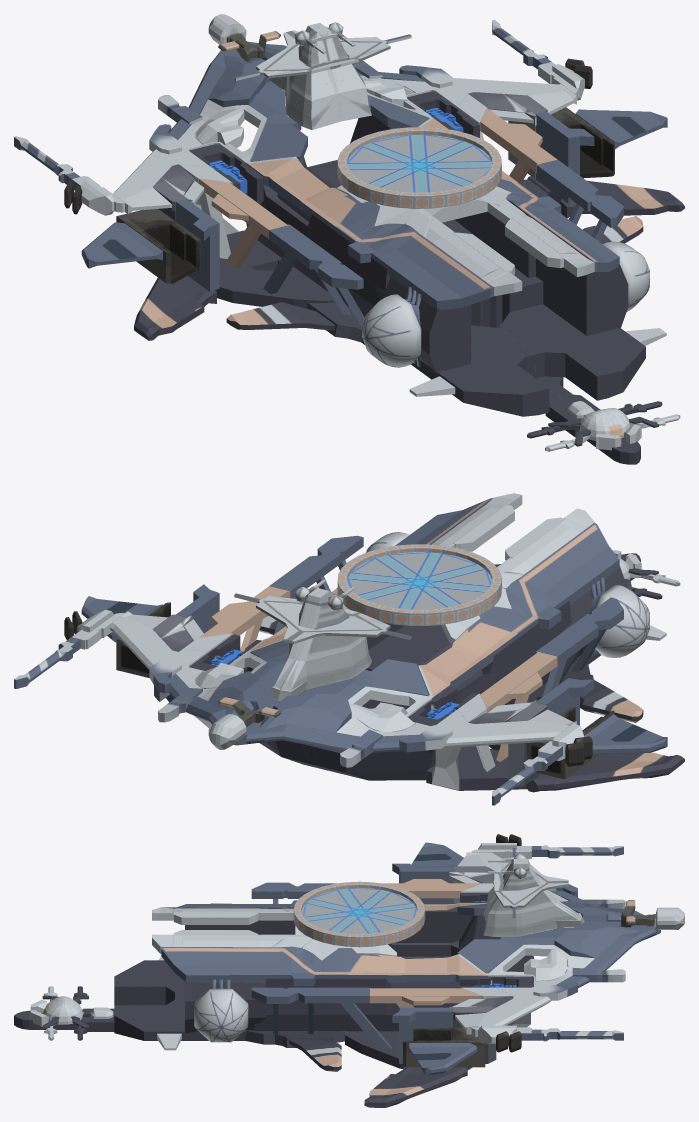
Rendered from Exploration Capital.fbx.
3 renders of one model, top to bottom at view 1: azimuth 30°, elevation 25°; view 2: azimuth 150°, elevation 25°; view 3: azimuth 270°, elevation 25°, orthographic. The views are drawn at different scales.
Visible parts, largest first — view 1: ESY, Circle; view 2: ESY, Circle; view 3: ESY, Circle.
Boxes of the visible parts, bbox=[...] form: ESY: bbox=[14, 14, 684, 464]; Circle: bbox=[337, 127, 501, 208]; ESY: bbox=[14, 493, 684, 805]; Circle: bbox=[337, 544, 501, 625]; ESY: bbox=[14, 834, 684, 1107]; Circle: bbox=[293, 881, 425, 947].
Size of the model in its own units: 1262 by 1586 by 430.
Materials: 2 (2 with a texture image).
